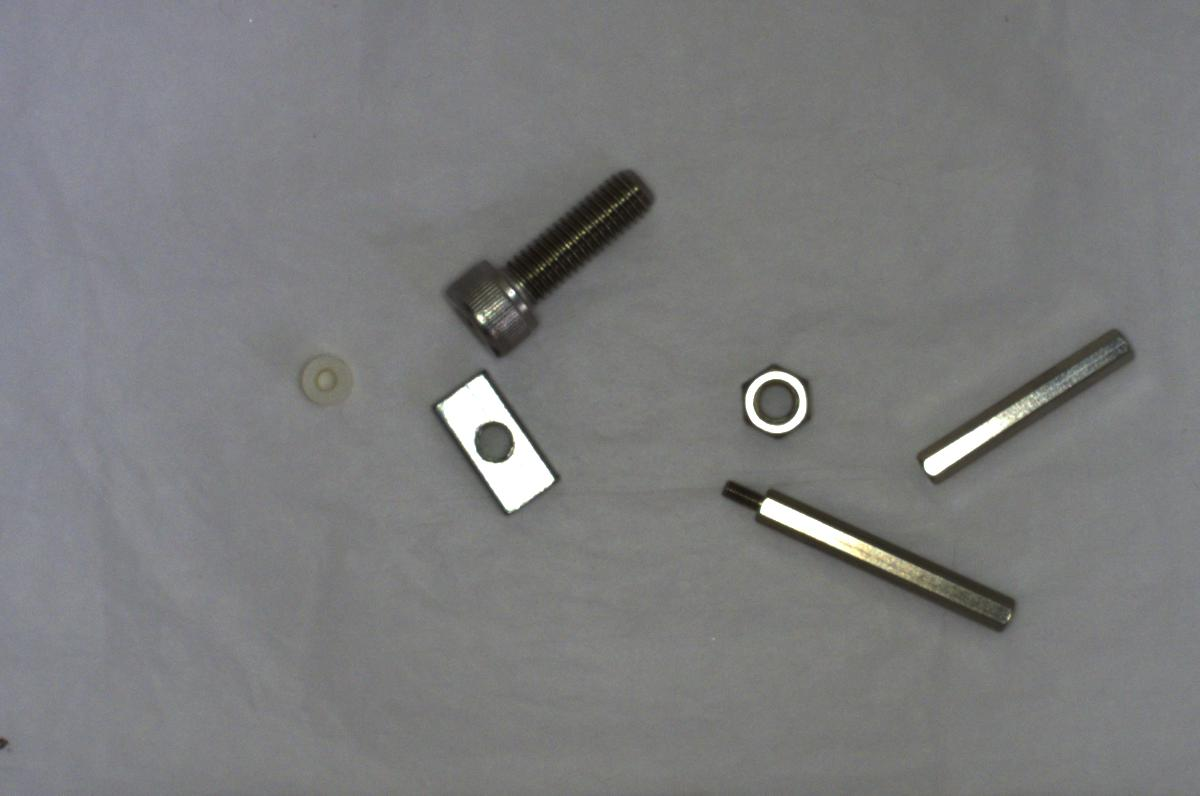Double hexagonal column: (915, 313, 1133, 487)
Hexagon nut: (733, 359, 818, 442)
Hexagon screw: (439, 166, 660, 362)
Hexagonal steel column: (718, 468, 1024, 636)
Plastic cushion pillar: (287, 345, 360, 419)
Rectangular nut: (422, 367, 561, 520)
